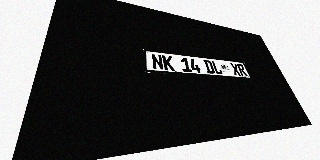plate: (143, 49, 252, 79)
